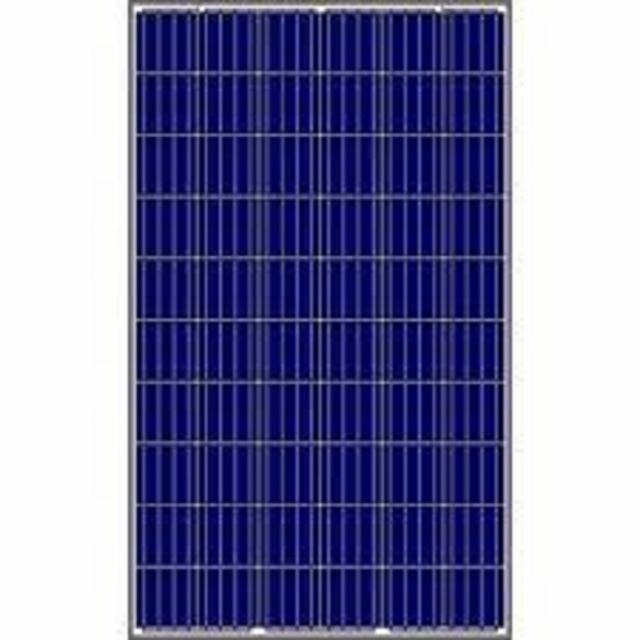no faulty: (141, 11, 509, 634)
